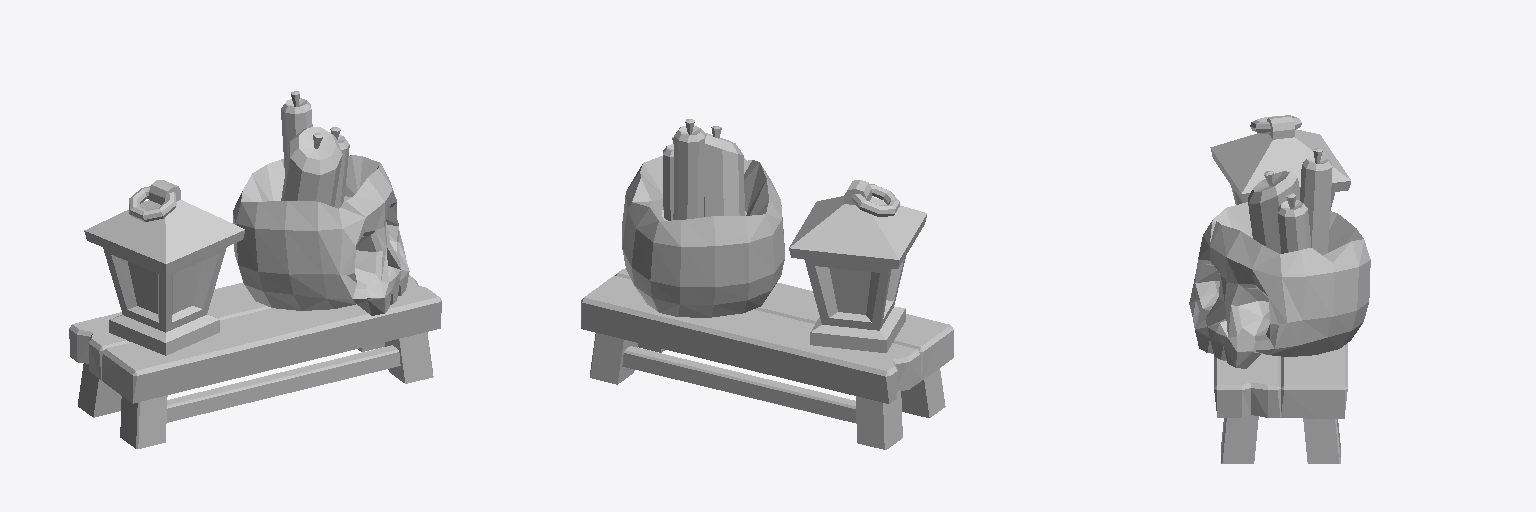
File: bench_decorated.obj
The picture shows the model from 3 angles: view 1: azimuth 30°, elevation 25°; view 2: azimuth 150°, elevation 25°; view 3: azimuth 270°, elevation 25°; orthographic projection.
Parts seen in each view (by area): view 1: bench_decorated_Cube.638; view 2: bench_decorated_Cube.638; view 3: bench_decorated_Cube.638.
Part boxes in pixels (x1,y1,x2,y2): bench_decorated_Cube.638: (69, 91, 441, 448); bench_decorated_Cube.638: (581, 119, 953, 449); bench_decorated_Cube.638: (1189, 115, 1370, 463).
Size of the model in its own units: 2 by 1.68 by 1.02.